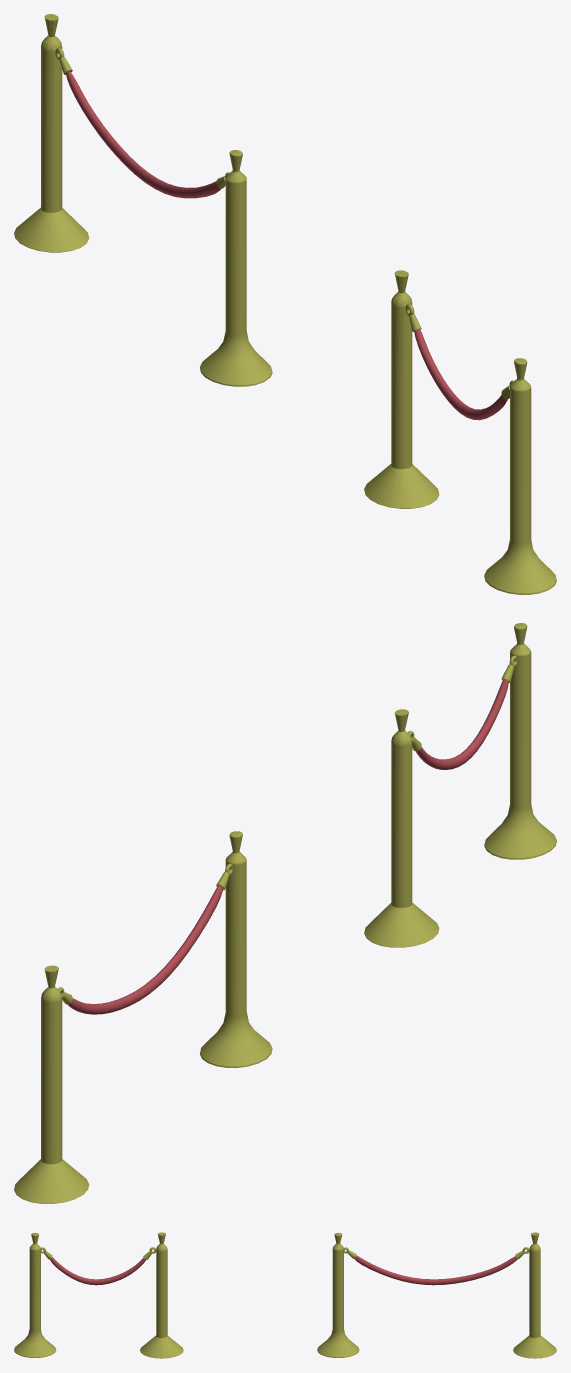
Rendered from partersion.fbx.
3 views of the same model, one above another, from view 1: azimuth 30°, elevation 25°; view 2: azimuth 150°, elevation 25°; view 3: azimuth 270°, elevation 25° (orthographic). The views are drawn at different scales.
Parts seen in each view (by area): view 1: pTorus4, pCylinder8; view 2: pTorus4, pCylinder8; view 3: pTorus4, pCylinder8.
Part boxes in pixels (left/top/right/bottom): pTorus4: left=14, top=14, right=272, bottom=386; pCylinder8: left=364, top=270, right=556, bottom=594; pTorus4: left=14, top=831, right=272, bottom=1203; pCylinder8: left=364, top=623, right=556, bottom=947; pTorus4: left=317, top=1232, right=556, bottom=1358; pCylinder8: left=14, top=1232, right=183, bottom=1358.
Bounding box in the file's own units: 0.6274 × 2.08 × 8.77.
